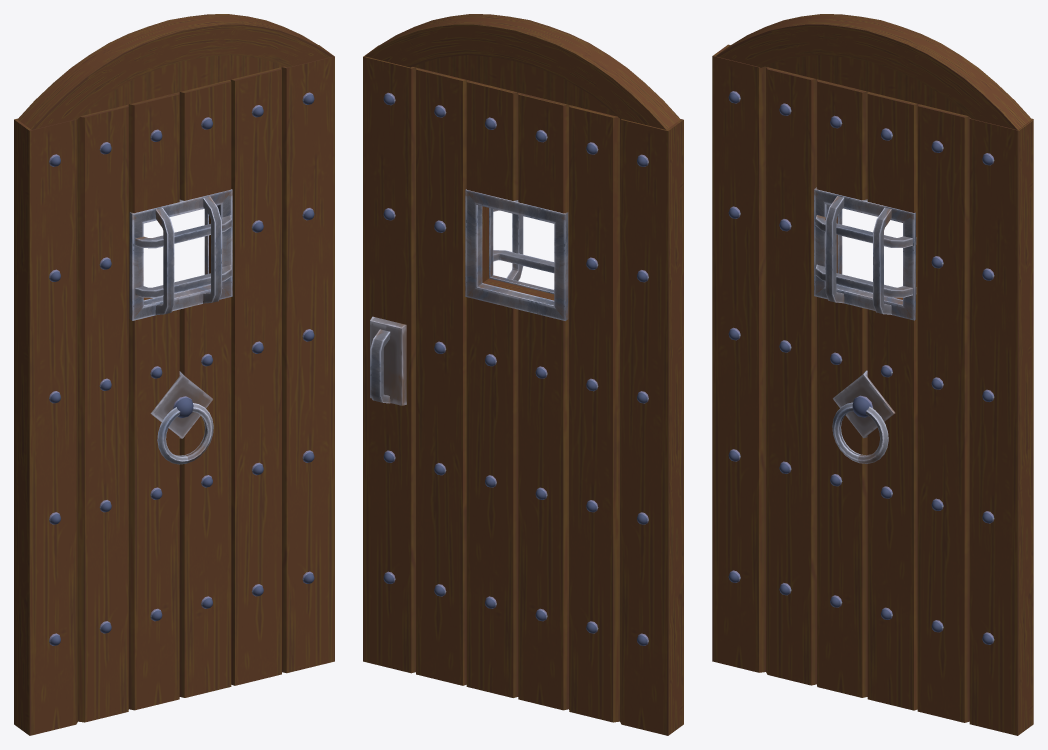
File: Door_2_Round.gltf
The picture shows the model from 3 angles, left to right: view 1: azimuth 30°, elevation 25°; view 2: azimuth 150°, elevation 25°; view 3: azimuth 330°, elevation 25°; orthographic projection.
Visible parts, largest first — view 1: Door_2_Round; view 2: Door_2_Round; view 3: Door_2_Round.
Boxes of the visible parts, x1=… form: Door_2_Round: x1=14, y1=14, x2=334, y2=735; Door_2_Round: x1=363, y1=14, x2=683, y2=735; Door_2_Round: x1=712, y1=14, x2=1033, y2=735.
Size of the model in its own units: 1.12 by 2.33 by 0.2609.
2 materials, 2 textured.
